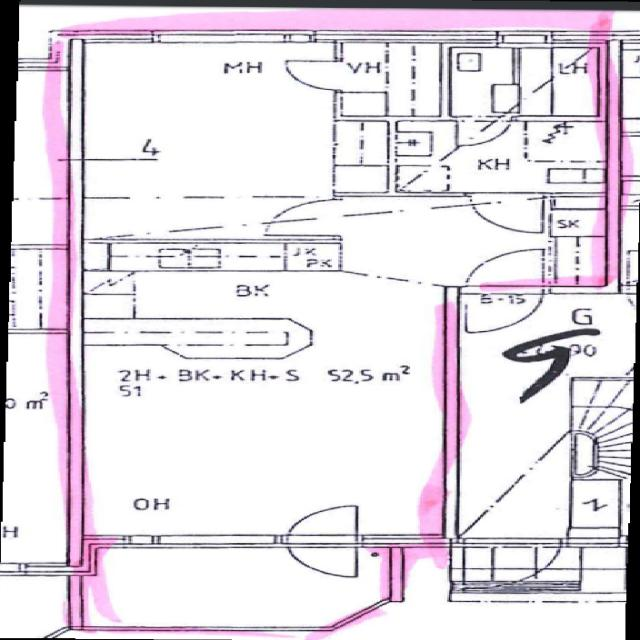door: (466, 285, 544, 333), (466, 246, 544, 293), (285, 498, 358, 548), (285, 535, 358, 585), (467, 192, 544, 234), (260, 199, 341, 236), (276, 61, 341, 90), (456, 116, 511, 148)
